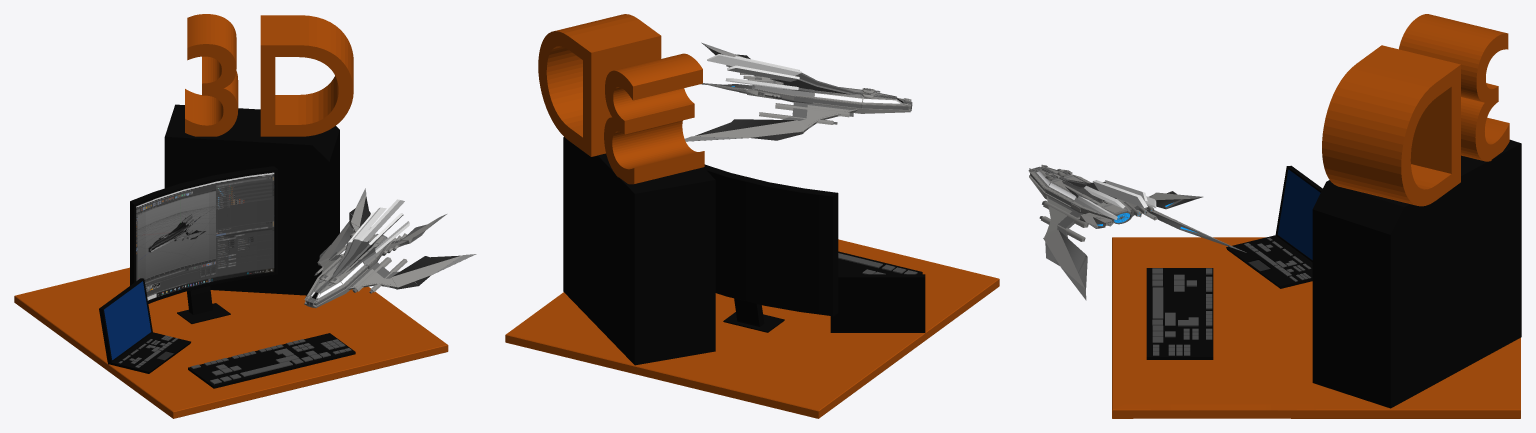
File: 3DHobby-model.glb
3 views of the same model, side by side, from view 1: azimuth 30°, elevation 25°; view 2: azimuth 150°, elevation 25°; view 3: azimuth 270°, elevation 25° (orthographic). The views are drawn at different scales.
Visible parts, largest first — view 1: ModelPlocha, Monitor, Pc, Text, Ntb Obraz, Klavesnica, Klavesy, Cube_5_10, Cube_2_2, Ntb Klavesa, Cube_5_12, Cube_4_10 (+2 smaller); view 2: Pc, ModelPlocha, Text, Monitor, Ntb Obraz, Cube_2_2, Cube_5_10, Cube_4_10, Klavesnica, Cube_5_9, Klavesy, Cube_5_7; view 3: Pc, ModelPlocha, Text, Klavesnica, Ntb Obraz, Klavesy, Ntb Klavesa, Cube_5_10, Cube_2_2, Klavesy.001, Cube_5_12, Cube_4_10 (+1 smaller).
Part boxes in pixels (x1,y1,x2,y2): ModelPlocha: (14, 267, 448, 418); Monitor: (130, 166, 277, 323); Pc: (164, 104, 339, 295); Text: (185, 14, 353, 136); Ntb Obraz: (99, 278, 152, 362); Klavesnica: (188, 333, 355, 388); Klavesy: (190, 339, 351, 384); Cube_5_10: (317, 221, 476, 289); Cube_2_2: (304, 234, 386, 308); Ntb Klavesa: (108, 332, 190, 373); Cube_5_12: (349, 188, 446, 244); Cube_4_10: (320, 252, 399, 289); Pc: (563, 137, 715, 365); ModelPlocha: (505, 239, 999, 418); Text: (538, 14, 704, 184); Monitor: (704, 164, 838, 332); Ntb Obraz: (830, 274, 925, 331); Cube_2_2: (754, 81, 912, 113); Cube_5_10: (684, 83, 808, 141); Cube_4_10: (781, 102, 857, 128); Klavesnica: (838, 251, 922, 274); Cube_5_9: (707, 54, 801, 75); Klavesy: (838, 253, 917, 274); Cube_5_7: (727, 65, 799, 81); Pc: (1312, 139, 1521, 408); ModelPlocha: (1112, 237, 1520, 418); Text: (1322, 14, 1509, 206); Klavesnica: (1146, 268, 1213, 359); Ntb Obraz: (1275, 165, 1322, 261); Klavesy: (1152, 268, 1212, 355); Ntb Klavesa: (1226, 235, 1312, 288); Cube_5_10: (1043, 208, 1246, 300); Cube_2_2: (1028, 166, 1131, 219); Klavesy.001: (1243, 237, 1311, 281); Cube_5_12: (1078, 191, 1202, 228); Cube_4_10: (1046, 195, 1149, 237).
Bounding box in the file's own units: 6.44 × 5.2 × 7.18.
12 materials, 1 textured.
